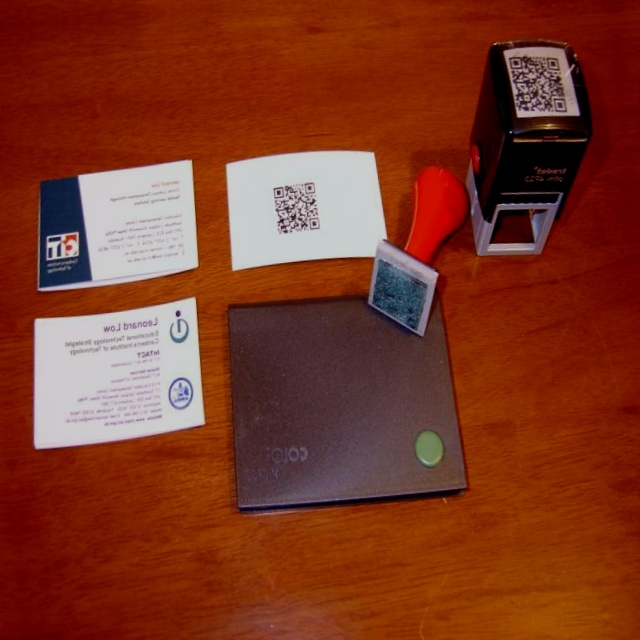qr-code: (509, 52, 568, 117), (274, 182, 320, 234)
